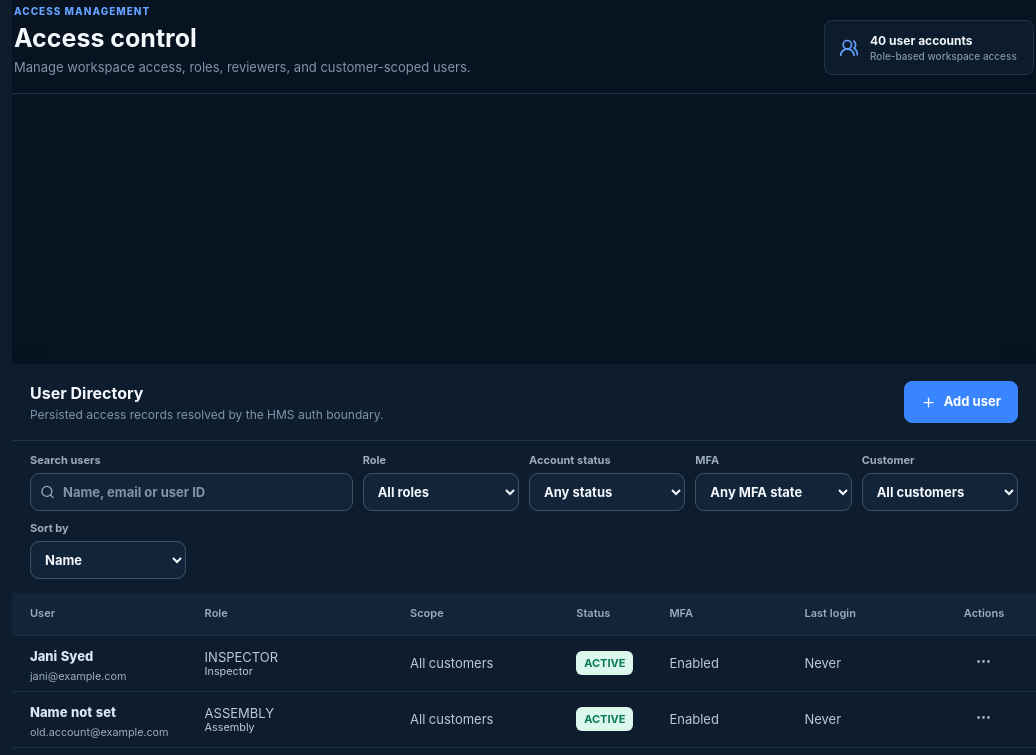
Test case: states › explains an empty filtered result and offers Clear filters
Check: the text "Jani Syed" is shown, box [30,644,93,668]
Type "nobody" into the search field labelled "Search users" at (191,492), box [30,473,353,511]
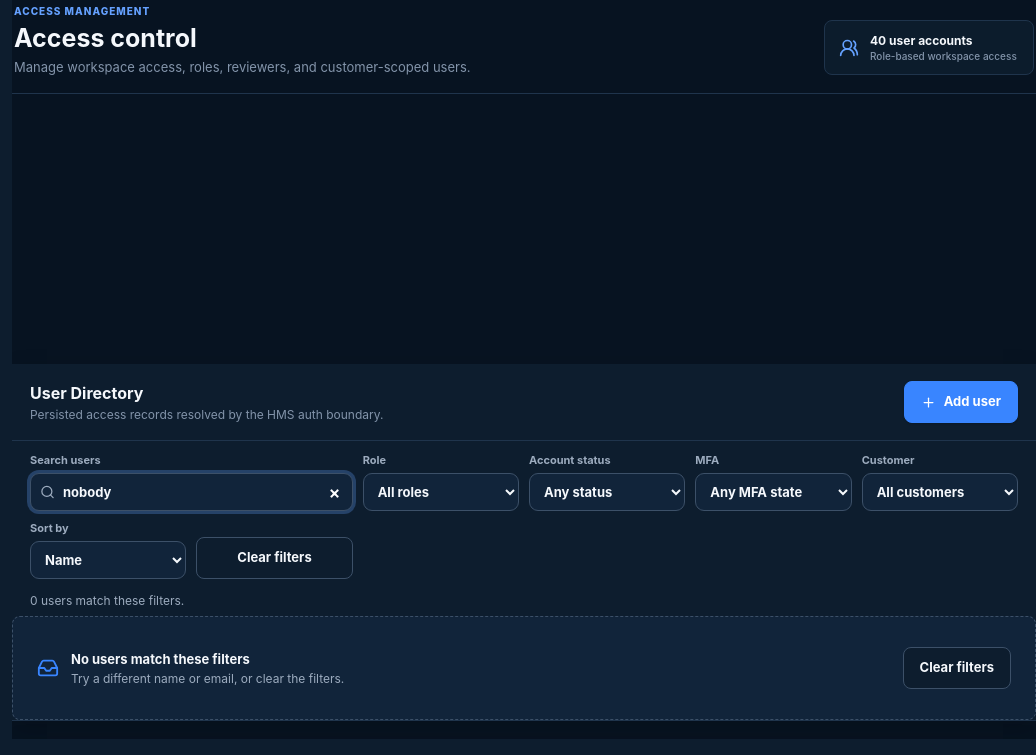
Check: the text "No users match these filters" is shown, box [71,650,250,666]
Click the button "Clear filters" in the row of "No users match these filters" at (957,668), box [903,647,1011,689]
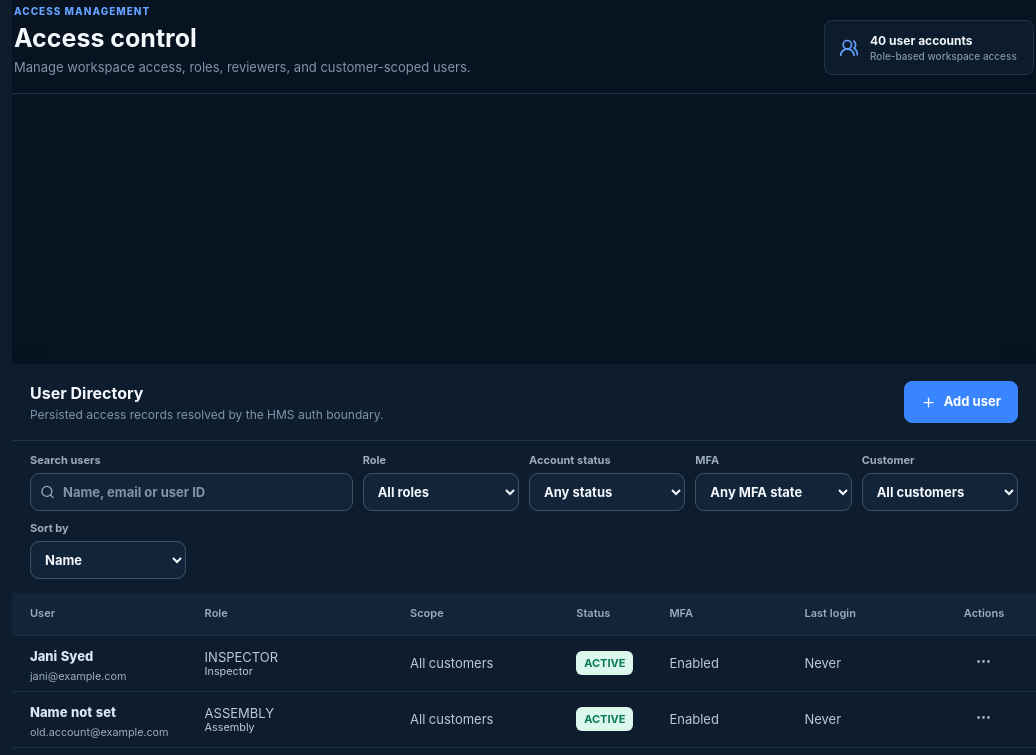
Check: the text "Jani Syed" is shown, box [30,644,93,668]
